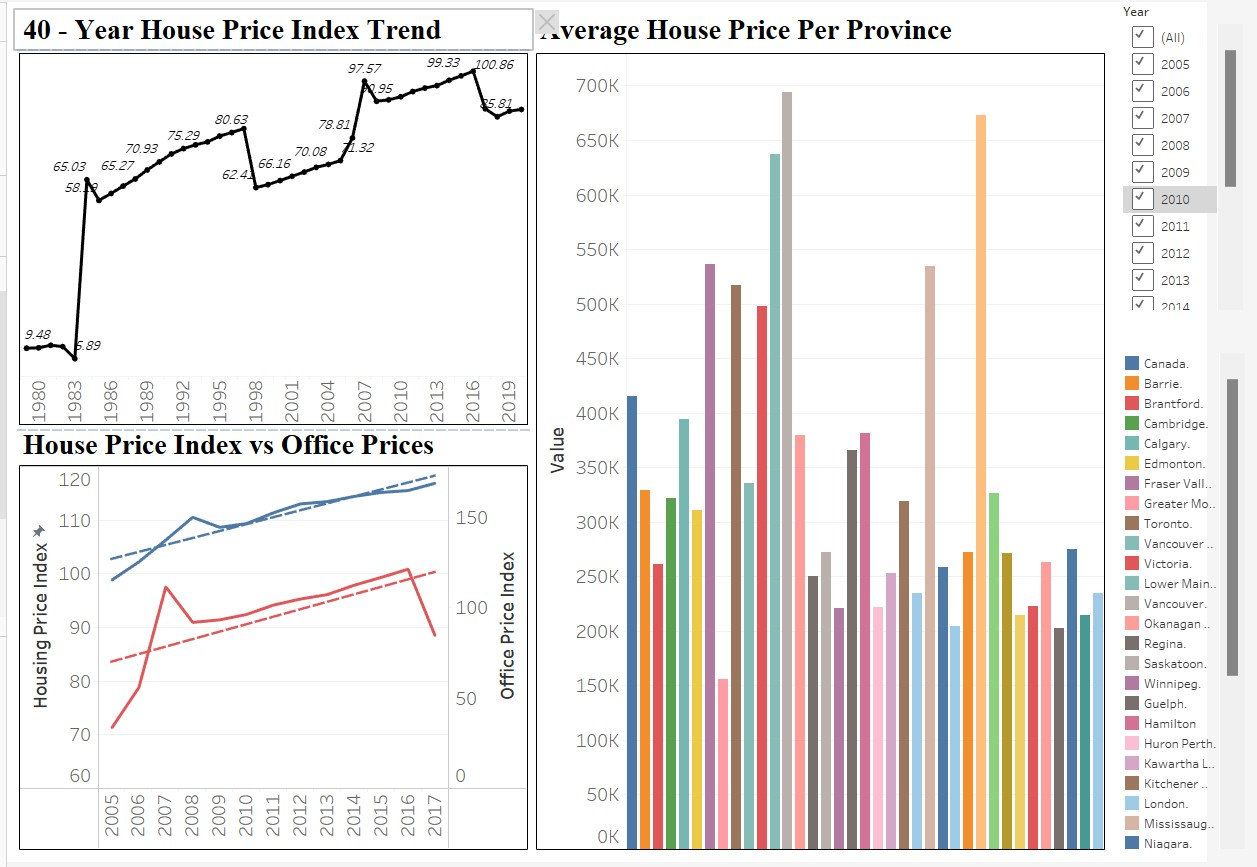

Layout of this report page (visuals, bound fields, positions):
{"tool":"tableau","page":{"name":"Dashboard 1","canvas":[1000,1000],"units":"permille","ordinal":0},"visuals":[{"type":"text","box":[6.7,9.3,431.2,45.4]},{"type":"text","box":[437.9,9.3,480.5,45.4]},{"type":"dashboard-object","box":[440,9.3,20,27.9]},{"type":"worksheet","title":"40-Year House Prices","mark":"Automatic","rows":["index_value (housing_price_index.csv)"],"cols":["date (housing_price_index.csv)"],"box":[6.7,54.6,431.2,441.9]},{"type":"worksheet","title":"Average House Prices Per Province","mark":"Automatic","box":[437.9,54.6,480.5,936.1]},{"type":"text","box":[6.7,496.5,431.2,37.2]},{"type":"worksheet","title":"House Price Index vs Office prices","mark":"Automatic","rows":["index_value (housing_price_index.csv)","index_value"],"cols":["Date"],"box":[6.7,533.7,431.2,457]}]}

Visuals, with their boxes on the dashboard's canvas, which has no fixed pixel size, in thousandths of its width and height (x1, y1, x2, y2). These are canvas units, not pixel positions in the 1257x867 screenshot, which may show the page scaled, cropped or inside an application window:
text: 7,9,438,55
text: 438,9,918,55
dashboard-object: 440,9,460,37
"40-Year House Prices" worksheet: 7,55,438,496
"Average House Prices Per Province" worksheet: 438,55,918,991
text: 7,496,438,534
"House Price Index vs Office prices" worksheet: 7,534,438,991
